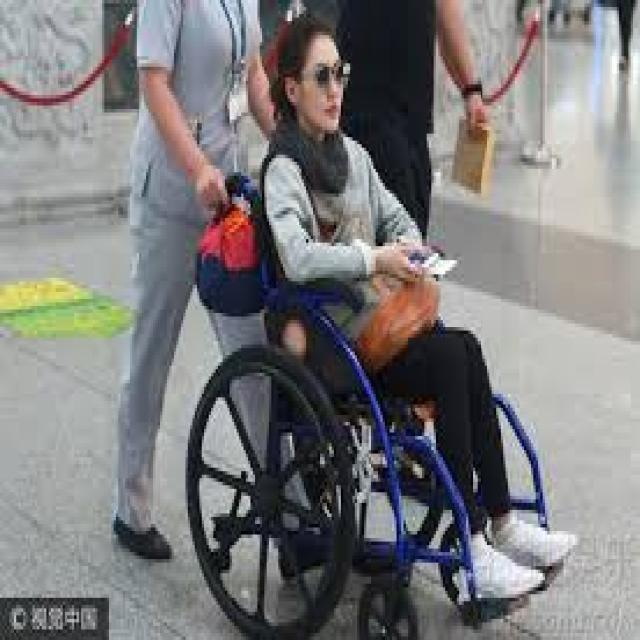wheelchairs: (176, 232, 582, 637)
